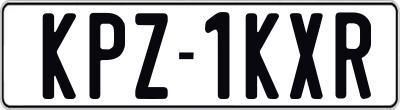1: (203, 12, 229, 100)
K: (42, 10, 81, 101), (246, 12, 282, 100)
P: (87, 12, 128, 98)
R: (335, 11, 374, 104)
X: (289, 11, 326, 102)
Z: (135, 11, 169, 102)
